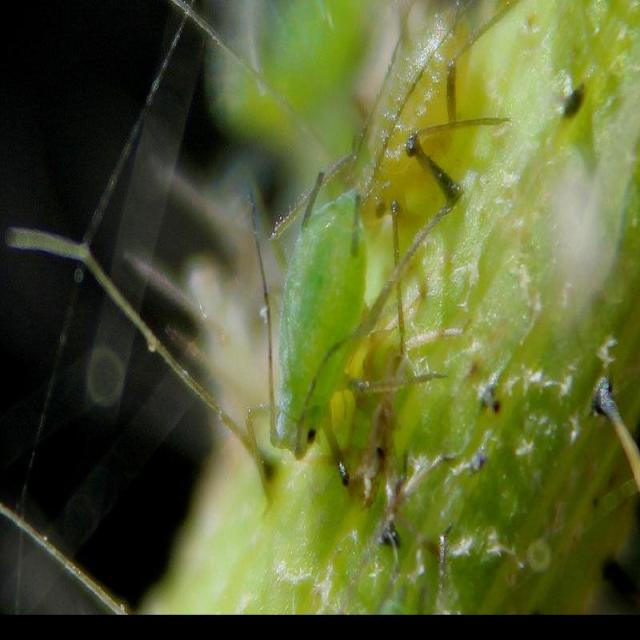Aphids: (225, 139, 410, 483)
